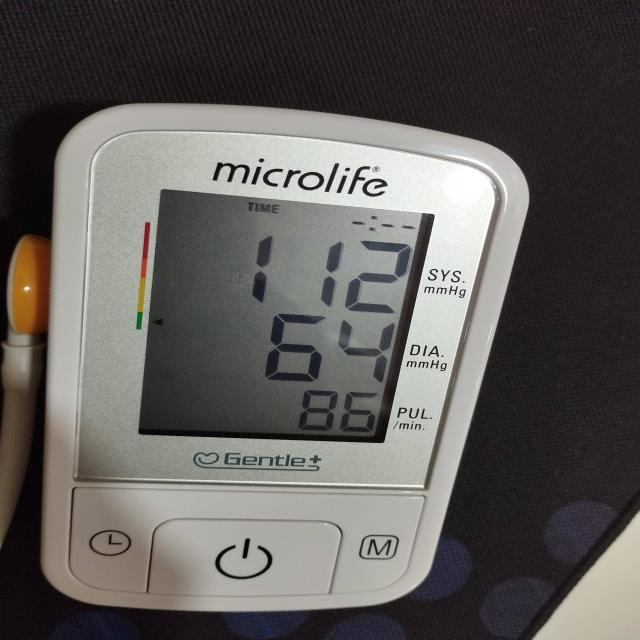bp: (39, 104, 530, 617)
